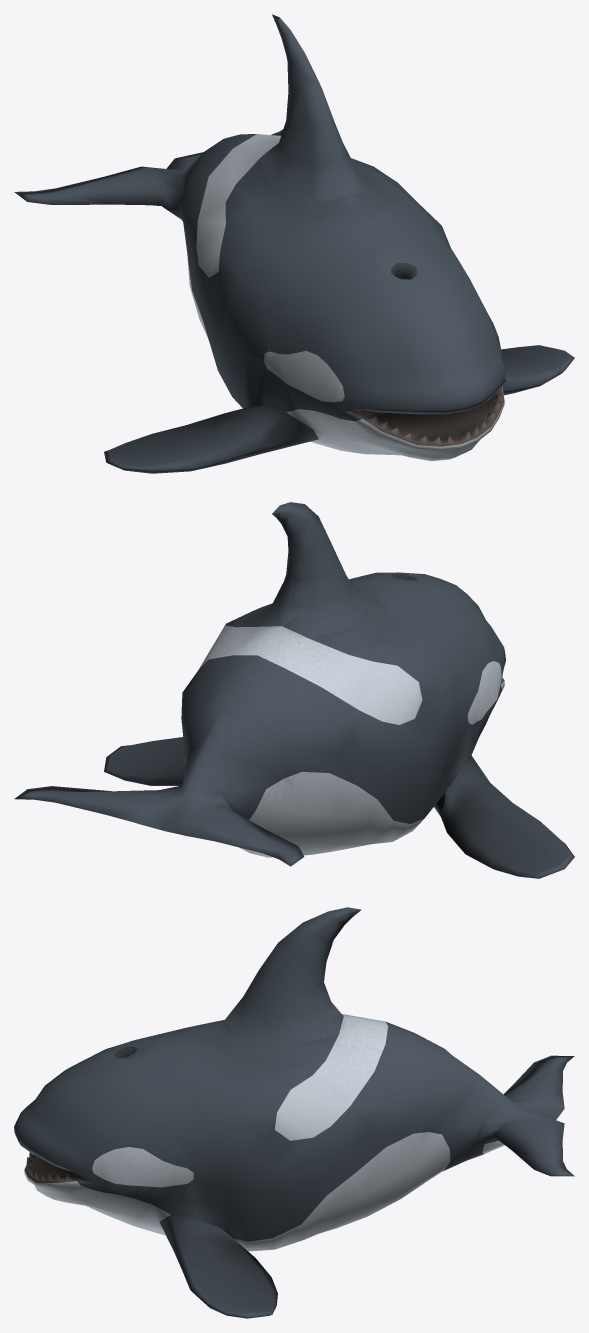
File: Orca_short.fbx
3 views of the same model, one above another, from view 1: azimuth 30°, elevation 25°; view 2: azimuth 150°, elevation 25°; view 3: azimuth 270°, elevation 25° (orthographic). The views are drawn at different scales.
Visible parts, largest first — view 1: pSphere4; view 2: pSphere4; view 3: pSphere4.
Boxes of the visible parts, <box> form: pSphere4: <box>14,14,574,473</box>; pSphere4: <box>14,502,574,878</box>; pSphere4: <box>14,907,574,1318</box>.
Size of the model in its own units: 558 by 426 by 663.
1 material, 1 textured.
